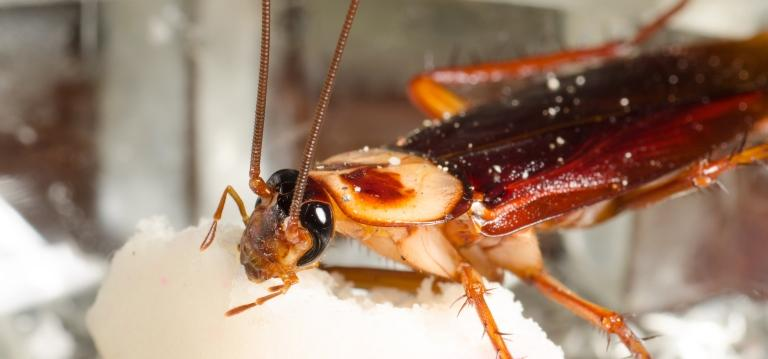cockroach: (222, 34, 766, 309)
